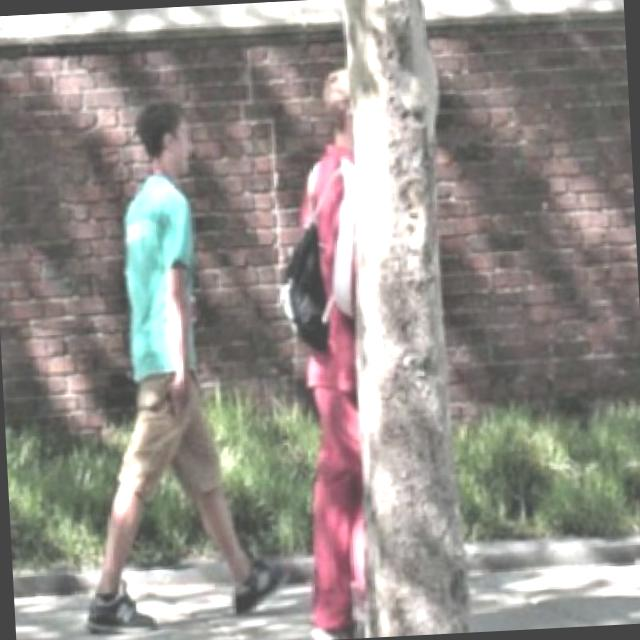Person: (58, 91, 294, 638), (273, 66, 381, 640)
